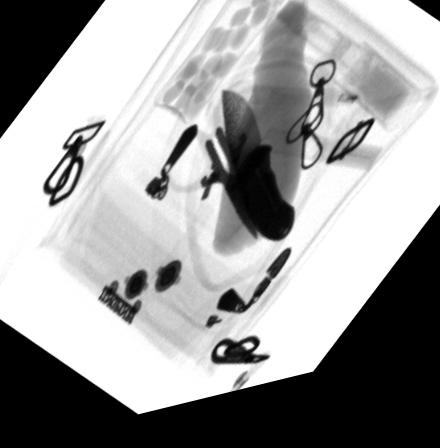Knife: (220, 99, 295, 252)
Scissors: (156, 81, 258, 251)
